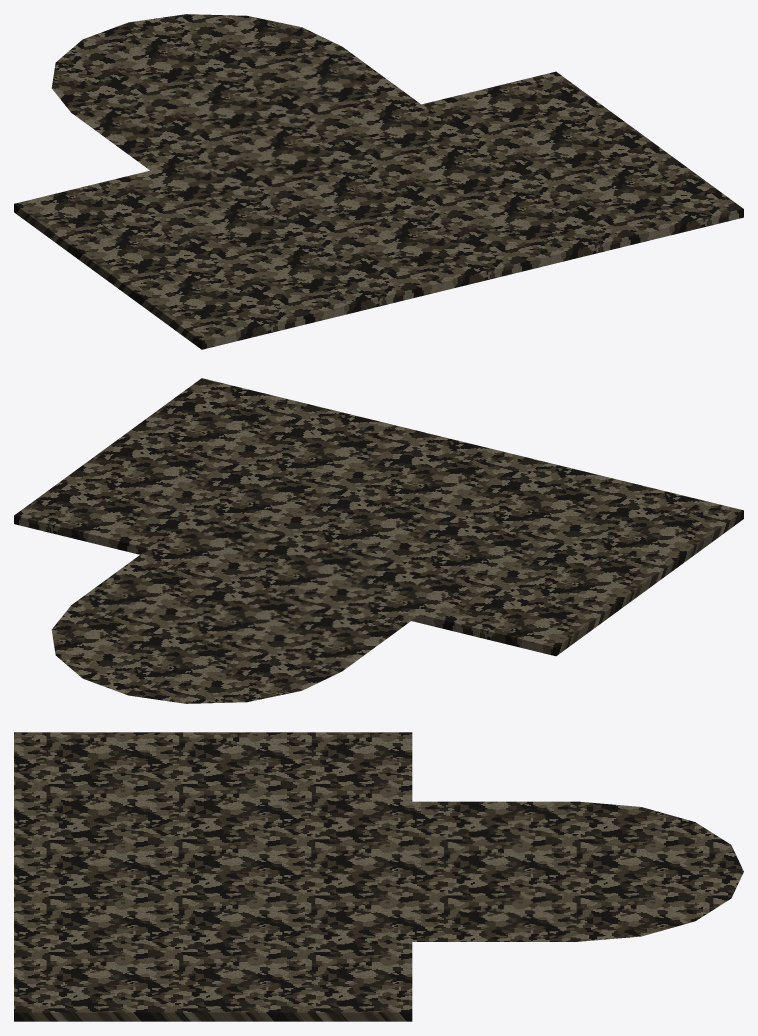
The model's file is PL_Shared_Bellevue.fbx.
3 views of the same model, one above another, from view 1: azimuth 30°, elevation 25°; view 2: azimuth 150°, elevation 25°; view 3: azimuth 270°, elevation 25° (orthographic). The views are drawn at different scales.
Visible parts, largest first — view 1: PL_Bellevue, PL_Travel_Safe; view 2: PL_Bellevue, PL_Travel_Safe; view 3: PL_Bellevue, PL_Travel_Safe.
Boxes of the visible parts, x1=… form: PL_Bellevue: x1=14, y1=71, x2=743, y2=349; PL_Travel_Safe: x1=51, y1=14, x2=486, y2=236; PL_Bellevue: x1=14, y1=378, x2=743, y2=656; PL_Travel_Safe: x1=51, y1=481, x2=486, y2=703; PL_Bellevue: x1=14, y1=732, x2=412, y2=1021; PL_Travel_Safe: x1=147, y1=801, x2=743, y2=941.
Size of the model in its own units: 2000 by 32.5 by 2200.
Materials: 1 (1 with a texture image).
